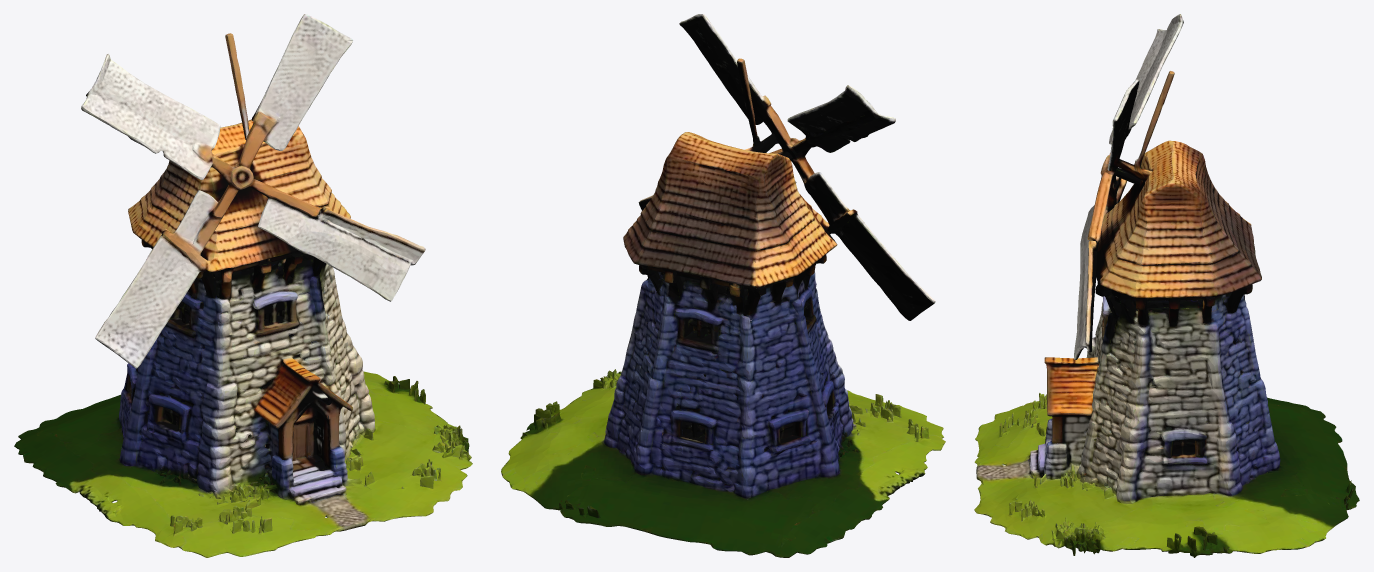
The model's file is landmark_windmill.glb.
3 views of the same model, side by side, from view 1: azimuth 30°, elevation 25°; view 2: azimuth 150°, elevation 25°; view 3: azimuth 270°, elevation 25° (orthographic). The views are drawn at different scales.
Visible parts, largest first — view 1: geometry_0; view 2: geometry_0; view 3: geometry_0.
Part boxes in pixels (x1=…): geometry_0: x1=14, y1=14, x2=472, y2=557; geometry_0: x1=501, y1=14, x2=945, y2=557; geometry_0: x1=974, y1=14, x2=1359, y2=557.
Bounding box in the file's own units: 0.8666 × 1 × 0.835.
Materials: 1 (1 with a texture image).
